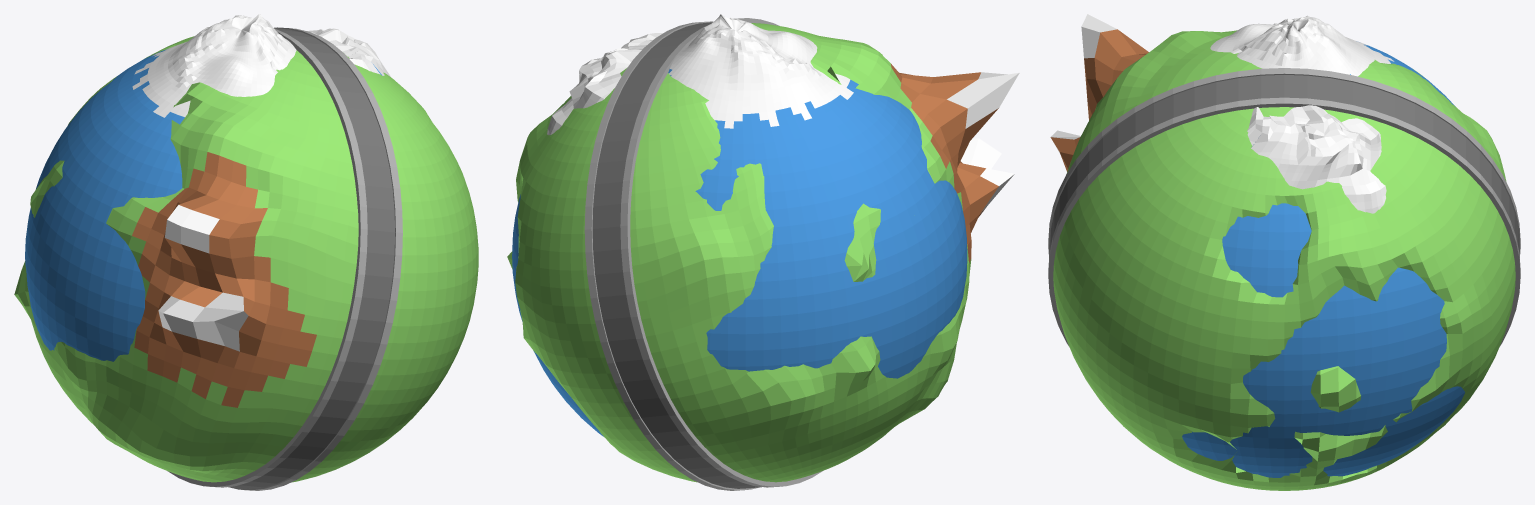
Rendered from little_earth3.gltf.
The picture shows the model from 3 angles, left to right: view 1: azimuth 30°, elevation 25°; view 2: azimuth 150°, elevation 25°; view 3: azimuth 270°, elevation 25°; orthographic projection.
Parts seen in each view (by area): view 1: Sphere, Sphere.001, Cylinder, Cylinder.001, Cylinder.002; view 2: Sphere, Sphere.001, Cylinder, Cylinder.001, Cylinder.002; view 3: Sphere, Sphere.001, Cylinder, Cylinder.002, Cylinder.001.
Part boxes in pixels (bbox=[...]): Sphere: bbox=[14, 36, 478, 482]; Sphere.001: bbox=[25, 14, 390, 361]; Cylinder: bbox=[228, 28, 395, 488]; Cylinder.001: bbox=[167, 28, 367, 487]; Cylinder.002: bbox=[230, 27, 402, 490]; Sphere: bbox=[507, 23, 1019, 482]; Sphere.001: bbox=[512, 14, 967, 436]; Cylinder: bbox=[592, 22, 761, 488]; Cylinder.001: bbox=[620, 18, 822, 487]; Cylinder.002: bbox=[584, 21, 759, 490]; Sphere: bbox=[1050, 14, 1515, 490]; Sphere.001: bbox=[1182, 15, 1464, 477]; Cylinder: bbox=[1049, 75, 1519, 251]; Cylinder.002: bbox=[1048, 97, 1520, 345]; Cylinder.001: bbox=[1048, 68, 1520, 257].
Size of the model in its own units: 20.1 by 21.45 by 20.32.
